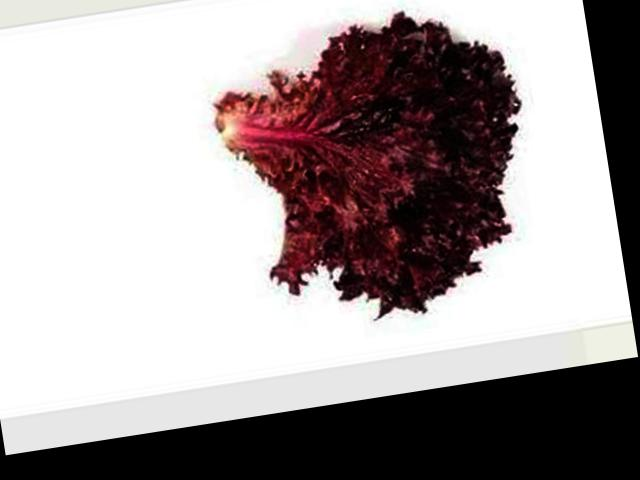lettuce: (128, 61, 254, 336)
